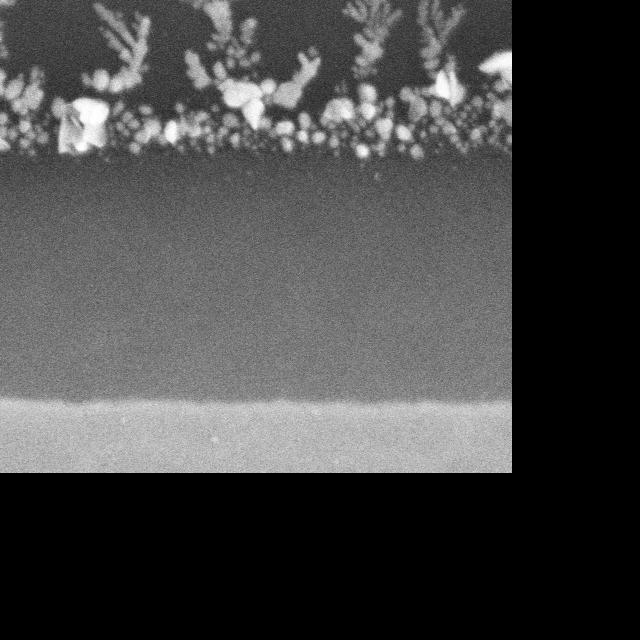Dendrite: (260, 0, 511, 160), (186, 48, 320, 127), (106, 100, 254, 153), (82, 2, 151, 95), (0, 66, 48, 148), (418, 0, 466, 77), (52, 97, 109, 153), (479, 49, 511, 125), (432, 64, 464, 105)
